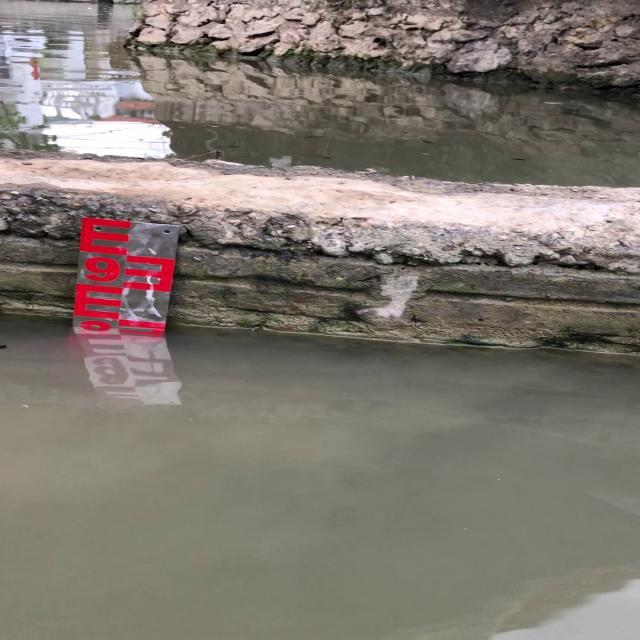ruler: (69, 207, 188, 348)
value: (78, 249, 128, 292)
